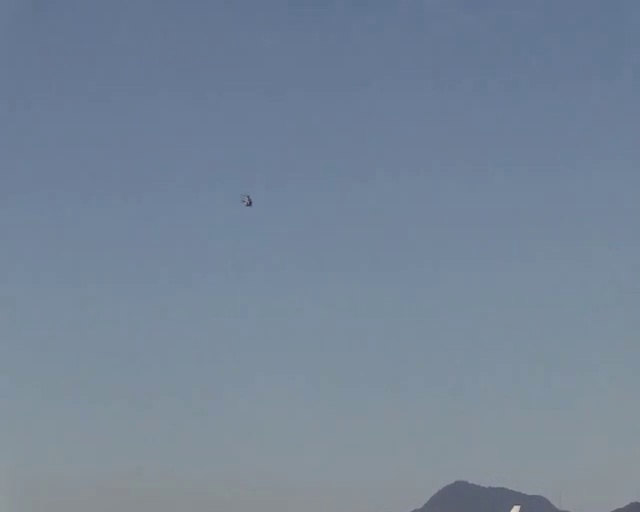HELICOPTER: (240, 194, 253, 207)
